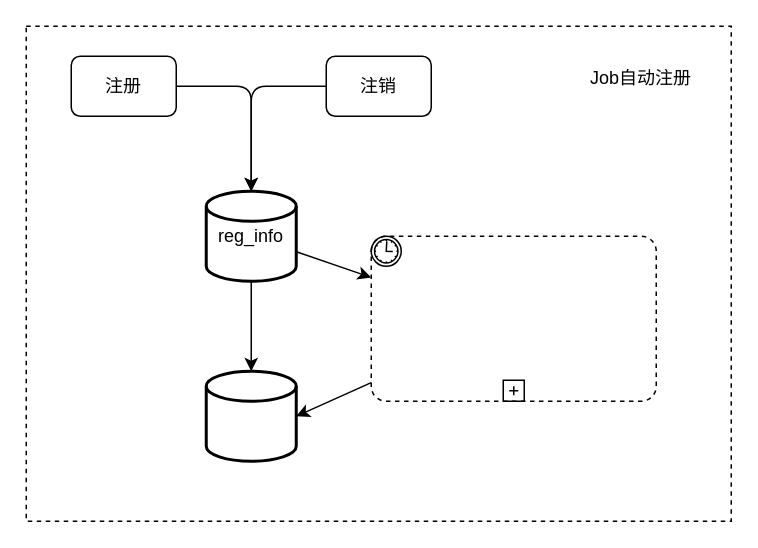
Some shapes in this 758 by 548 pixel diagram are drawn without their labels. The centre of each missing label's shape, as x and y in pixels:
"job_group" goes at (250,415).
"JobRegistryHelper 间隔30s,同步appname下的address数据到group" goes at (513,318).
